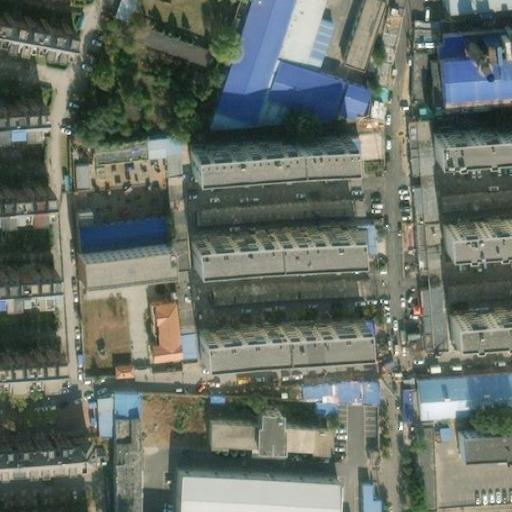building: (165, 461, 329, 512), (254, 46, 363, 112), (194, 314, 358, 353), (435, 25, 512, 104), (160, 170, 190, 357), (198, 404, 319, 449), (192, 195, 358, 227), (185, 224, 350, 256), (205, 273, 367, 305), (185, 133, 344, 163), (405, 211, 440, 347), (411, 368, 512, 410), (104, 390, 131, 512), (64, 209, 157, 244), (125, 17, 200, 59), (425, 116, 512, 150), (399, 116, 429, 213), (0, 430, 88, 463), (70, 244, 163, 275), (436, 209, 512, 242), (0, 0, 67, 37), (443, 301, 512, 334), (415, 426, 439, 509), (355, 15, 390, 70), (141, 297, 171, 359), (453, 421, 512, 450), (0, 337, 56, 364), (136, 133, 174, 171), (0, 256, 49, 285), (0, 173, 48, 200), (326, 376, 369, 403), (294, 378, 328, 410), (1, 500, 84, 512), (406, 16, 436, 48), (0, 90, 35, 117), (86, 136, 137, 154), (355, 479, 376, 512), (88, 390, 104, 423), (102, 0, 124, 21), (65, 157, 80, 186), (103, 356, 124, 372)
